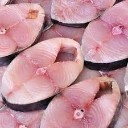seerfish: (3, 37, 84, 102), (42, 77, 120, 128), (82, 1, 128, 62), (1, 4, 44, 54), (51, 1, 117, 24)
